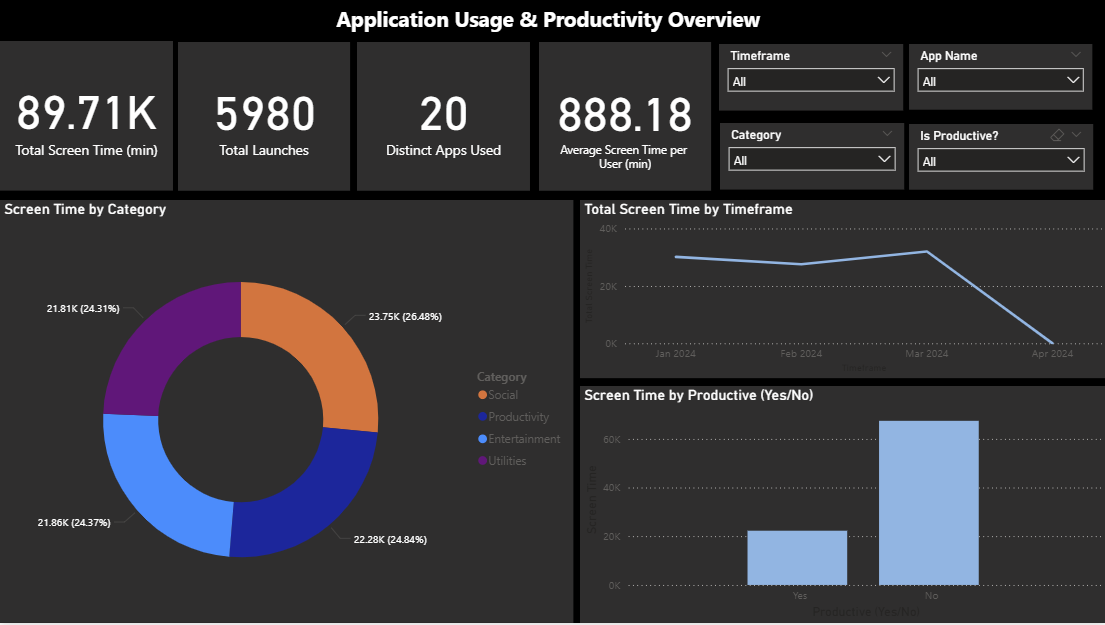

Layout of this report page (visuals, bound fields, positions):
{"tool":"powerbi","page":{"name":"Usage Overview","canvas":[1280,720],"ordinal":0},"visuals":[{"type":"card","fields":{"Values":["App Usage.Total Screen Time"]},"box":[0,40.8,199.6,173],"z":0},{"type":"lineChart","fields":{"Y":["App Usage.Total Screen Time"],"Category":["App Usage.Year Month"]},"box":[662.3,215.8,618,230.6],"z":1},{"type":"donutChart","fields":{"Category":["App Usage.category"],"Y":["Sum(App Usage.screen_time_min)"]},"box":[0,215.8,662.3,504.1],"z":2},{"type":"columnChart","fields":{"Y":["Sum(App Usage.screen_time_min)"],"Category":["App Usage.Productive (Yes/No)"]},"box":[662.3,446.5,618,273.5],"z":3},{"type":"card","fields":{"Values":["App Usage.Total Launches"]},"box":[199.6,42.3,199.6,173],"z":4},{"type":"card","fields":{"Values":["Count(App Usage.app_name)"]},"box":[399.2,42.3,199.6,173],"z":5},{"type":"card","fields":{"Values":["App Usage.Average Screen Time per User (min)"]},"box":[598.8,42.3,199.6,173],"z":6},{"type":"textbox","box":[205.5,0,856,50.3],"z":7},{"type":"slicer","fields":{"Values":["App Usage.Year Month"]},"box":[798.3,45.8,212.9,76.9],"z":8},{"type":"slicer","fields":{"Values":["App Usage.category"]},"box":[800.6,128.3,212.4,77.9],"z":9},{"type":"slicer","fields":{"Values":["App Usage.app_name"]},"box":[1051.1,45.8,212.4,76.4],"z":10},{"type":"slicer","fields":{"Values":["App Usage.is_productive"]},"box":[1051.1,126.8,212.4,76.4],"z":11}]}

Visuals, with their boxes in screenshot pixels (x1, y1, x2, y2), scaled from the page's 1280x720 canvas onto the 1105x625 screenshot:
card - App Usage.Total Screen Time: pyautogui.locateOnScreen(0, 35, 172, 186)
lineChart - App Usage.Total Screen Time x App Usage.Year Month: pyautogui.locateOnScreen(572, 187, 1104, 388)
donutChart - App Usage.category x Sum(App Usage.screen_time_min): pyautogui.locateOnScreen(0, 187, 572, 624)
columnChart - Sum(App Usage.screen_time_min) x App Usage.Productive (Yes/No): pyautogui.locateOnScreen(572, 388, 1104, 624)
card - App Usage.Total Launches: pyautogui.locateOnScreen(172, 37, 345, 187)
card - Count(App Usage.app_name): pyautogui.locateOnScreen(345, 37, 517, 187)
card - App Usage.Average Screen Time per User (min): pyautogui.locateOnScreen(517, 37, 689, 187)
textbox: pyautogui.locateOnScreen(177, 0, 916, 44)
slicer - App Usage.Year Month: pyautogui.locateOnScreen(689, 40, 873, 107)
slicer - App Usage.category: pyautogui.locateOnScreen(691, 111, 875, 179)
slicer - App Usage.app_name: pyautogui.locateOnScreen(907, 40, 1091, 106)
slicer - App Usage.is_productive: pyautogui.locateOnScreen(907, 110, 1091, 176)
